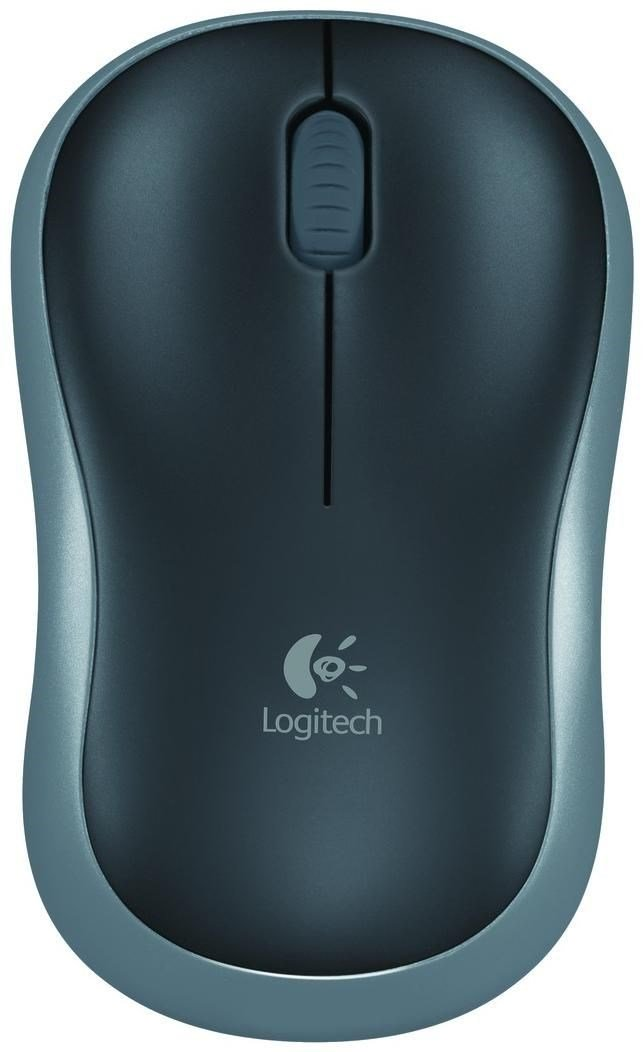logitech-mouse-m185: (1, 15, 637, 1039)
